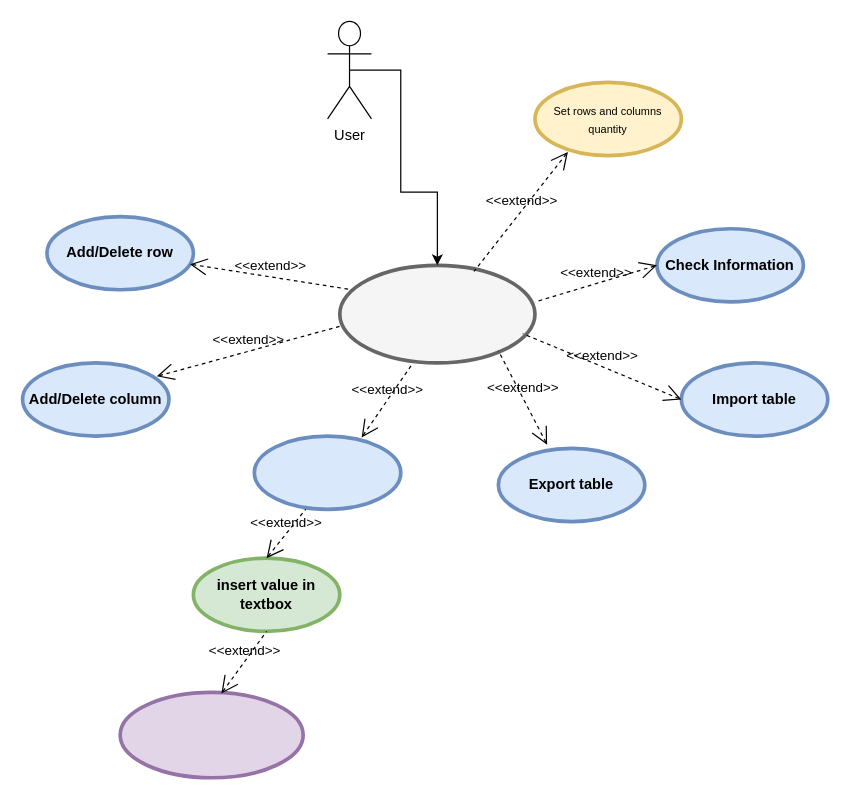
The diagram is 850 pixels wide and 800 high, and some of its shapes have lost their labels. The shapes that lost their labels are listed below. From the top down, each one's centre as x and y in pixels, then its label:
At point 436,313: "Create table".
At point 327,472: "Select cell".
At point 211,734: "Update value in selected cell from textbox".
